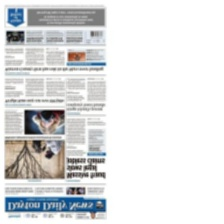news_paper: (0, 0, 107, 224)
